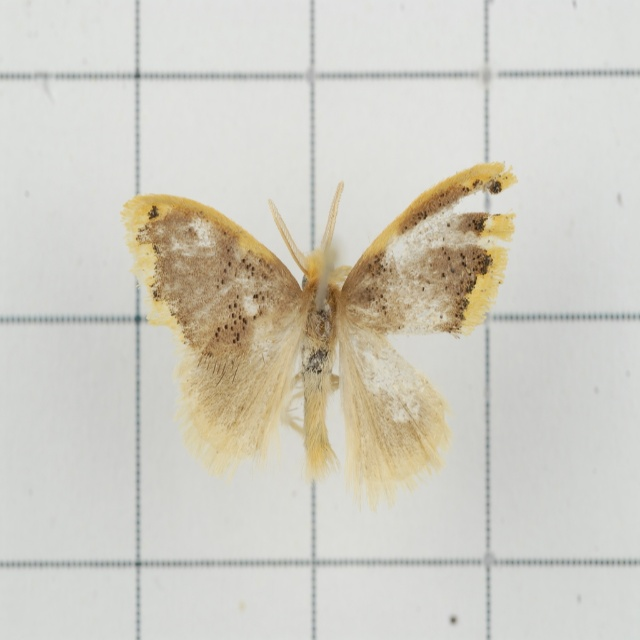Butterfly: (116, 166, 516, 513)
